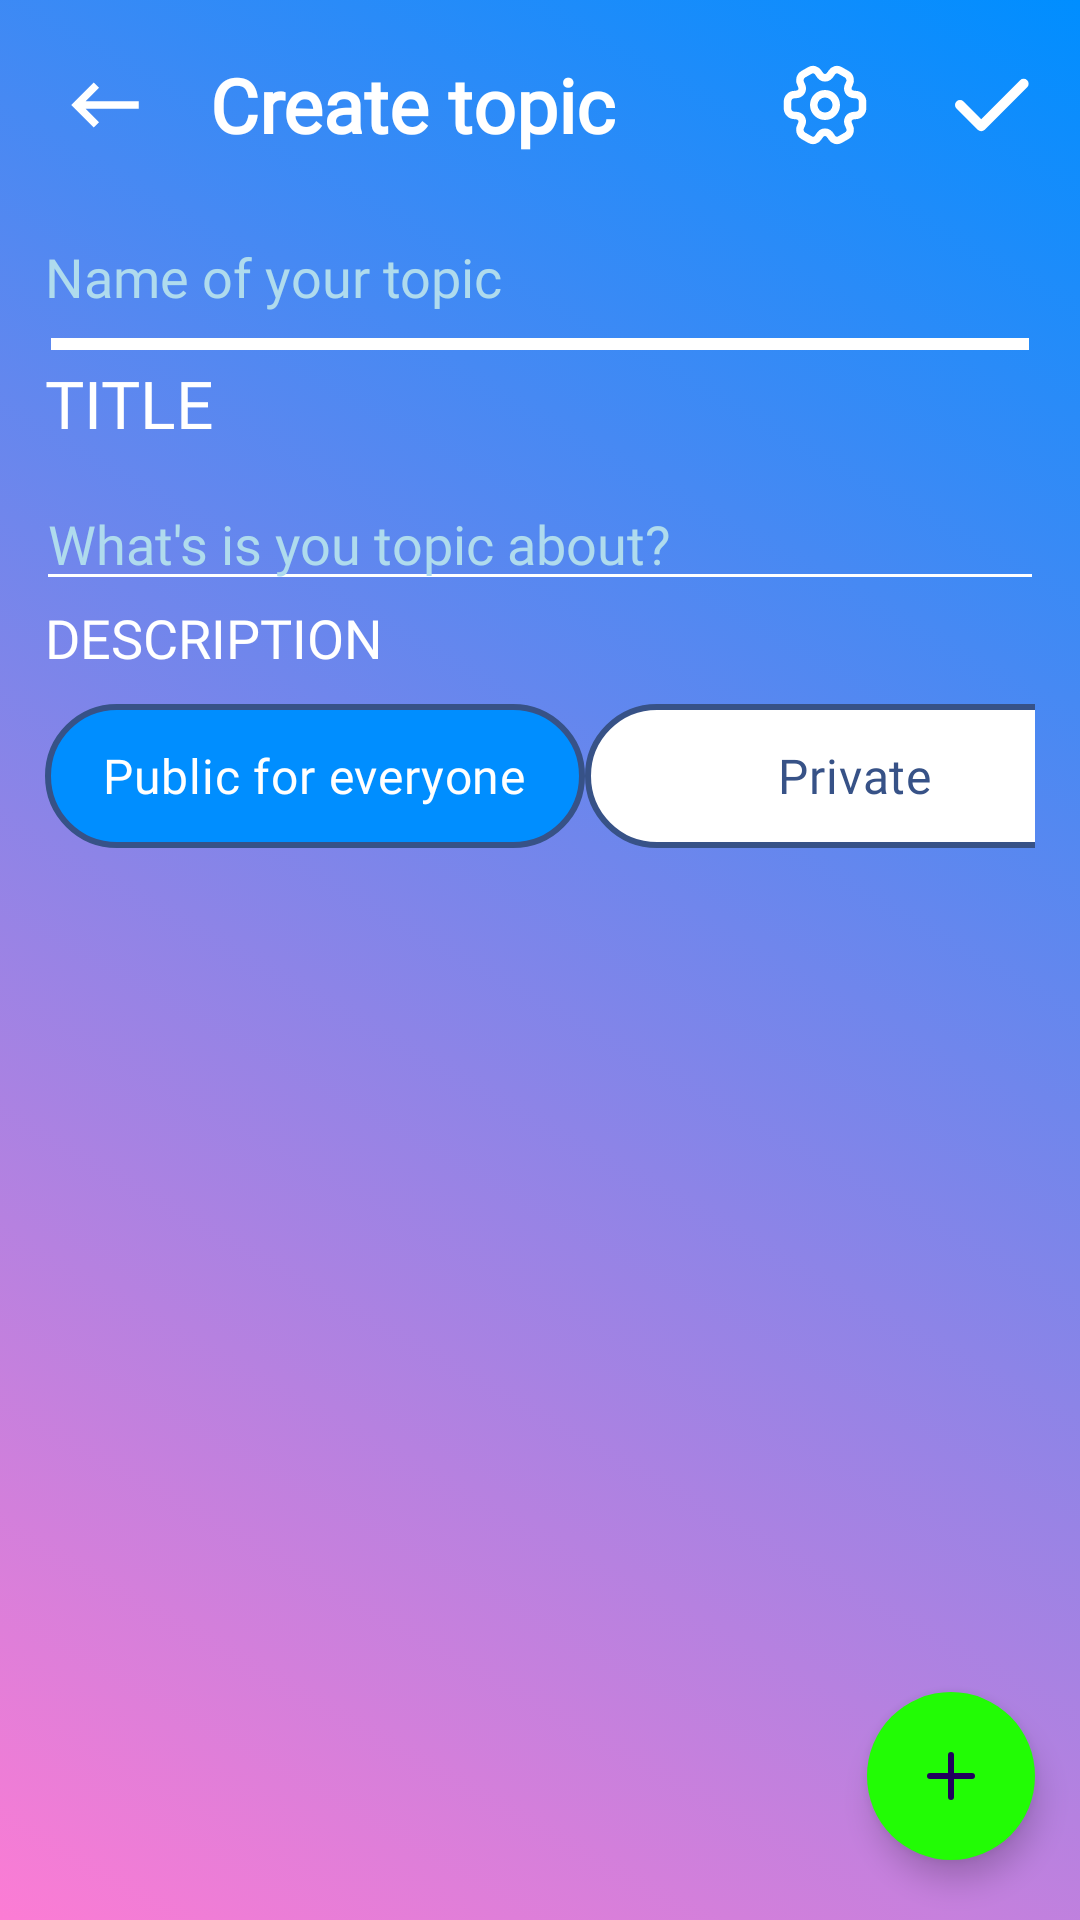

Where to tap for icons on this 1080 × 1920 app screen, as [x,y]:
add: [951,1776]
check: [992,105]
keyboard backspace: [105,105]
setting: [825,105]
